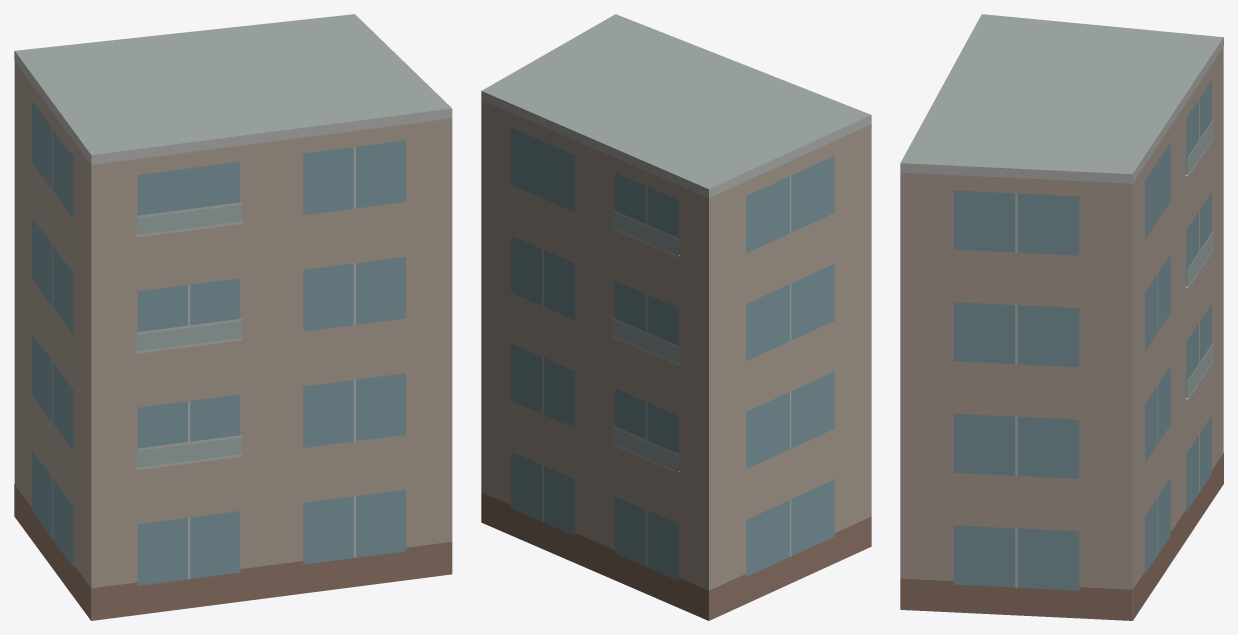
The model's file is survey-upis-32749991.glb.
3 renders of one model, left to right at view 1: azimuth 30°, elevation 25°; view 2: azimuth 150°, elevation 25°; view 3: azimuth 270°, elevation 25°, orthographic. The views are drawn at different scales.
Visible parts, largest first — view 1: survey-upis-32749991.tmp; view 2: survey-upis-32749991.tmp; view 3: survey-upis-32749991.tmp.
Boxes of the visible parts, <box> form: survey-upis-32749991.tmp: <box>14,14,452,620</box>; survey-upis-32749991.tmp: <box>481,14,871,620</box>; survey-upis-32749991.tmp: <box>900,14,1223,620</box>.
Bounding box in the file's own units: 8.93 × 11.6 × 7.62.
